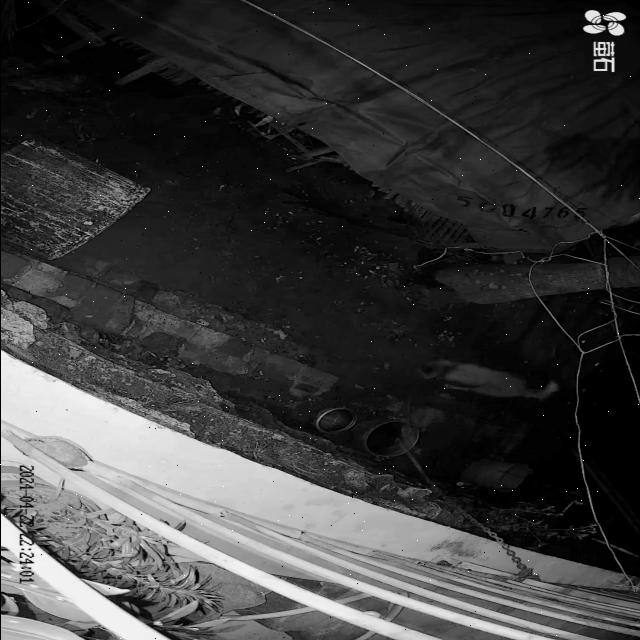dog: (421, 360, 561, 402)
